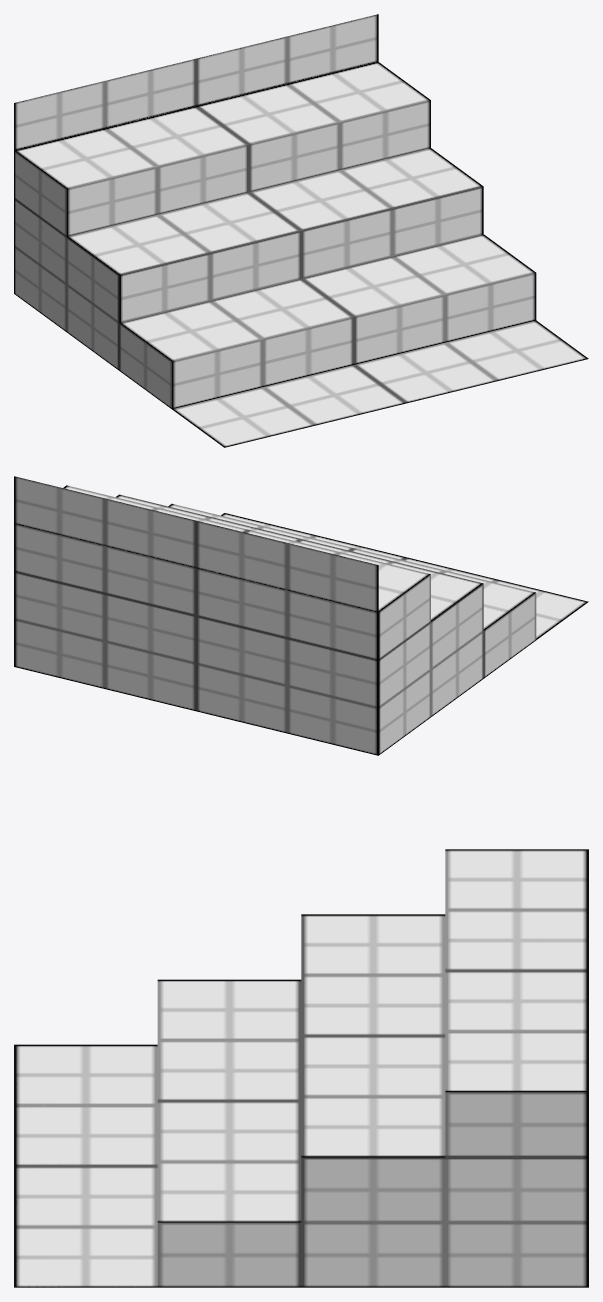
File: stair.fbx
3 views of the same model, one above another, from view 1: azimuth 30°, elevation 25°; view 2: azimuth 150°, elevation 25°; view 3: azimuth 270°, elevation 25° (orthographic). The views are drawn at different scales.
Parts seen in each view (by area): view 1: Yplus, Zplus, Xminus, Zminus, Yminus; view 2: Zminus, Zplus, Xminus, Yplus; view 3: Yplus, Xplus, Yminus.
Part boxes in pixels (x1,y1,x2,y2): Yplus: (14, 62, 588, 447); Zplus: (14, 14, 536, 409); Xminus: (14, 151, 171, 408); Zminus: (14, 15, 378, 149); Yminus: (236, 321, 582, 444); Zminus: (14, 476, 378, 755); Zplus: (14, 476, 378, 612); Xminus: (378, 574, 536, 755); Yplus: (63, 485, 588, 639); Yplus: (14, 849, 588, 1287); Xplus: (157, 1092, 588, 1287); Yminus: (14, 1047, 156, 1287).
Size of the model in its own units: 100 by 50 by 100.
